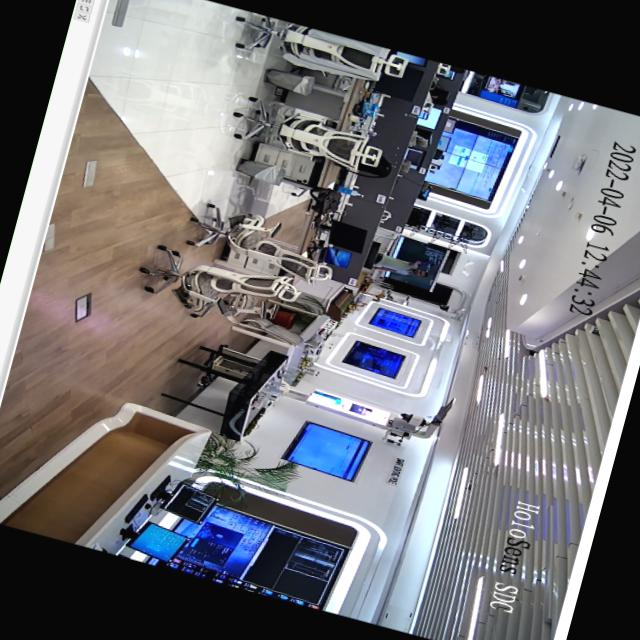long weapon: (414, 253, 436, 270)
